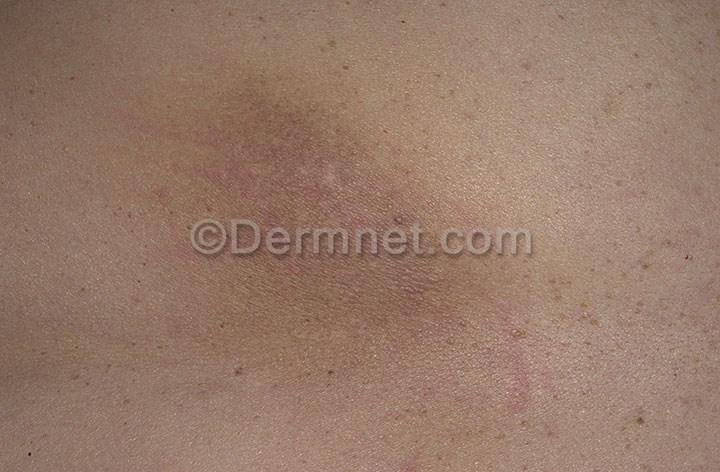Eczema: (175, 258, 576, 444), (197, 73, 416, 218)
